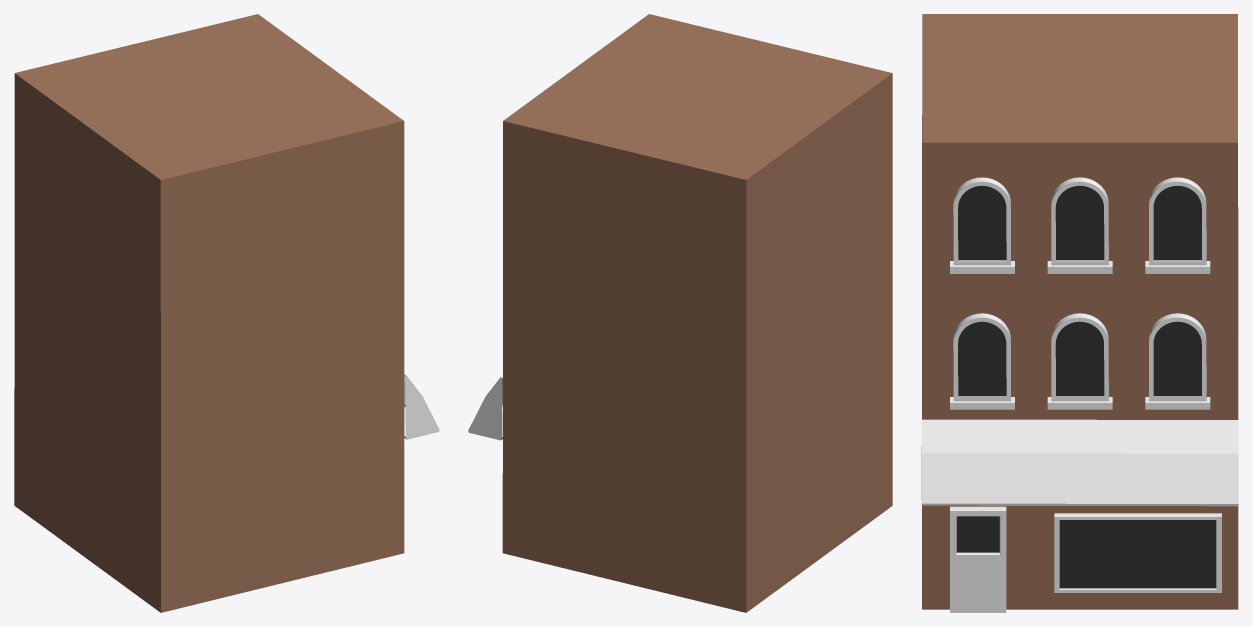
3 views of the same model, side by side, from view 1: azimuth 30°, elevation 25°; view 2: azimuth 150°, elevation 25°; view 3: azimuth 270°, elevation 25° (orthographic). The views are drawn at different scales.
Parts seen in each view (by area): view 1: BusinessBuildings.064; view 2: BusinessBuildings.064; view 3: BusinessBuildings.064.
Part boxes in pixels (box(x1,y1,x2,y2)): BusinessBuildings.064: box(14, 14, 439, 612); BusinessBuildings.064: box(468, 14, 892, 612); BusinessBuildings.064: box(921, 14, 1238, 612).
Bounding box in the file's own units: 90.89 × 135 × 83.01.
